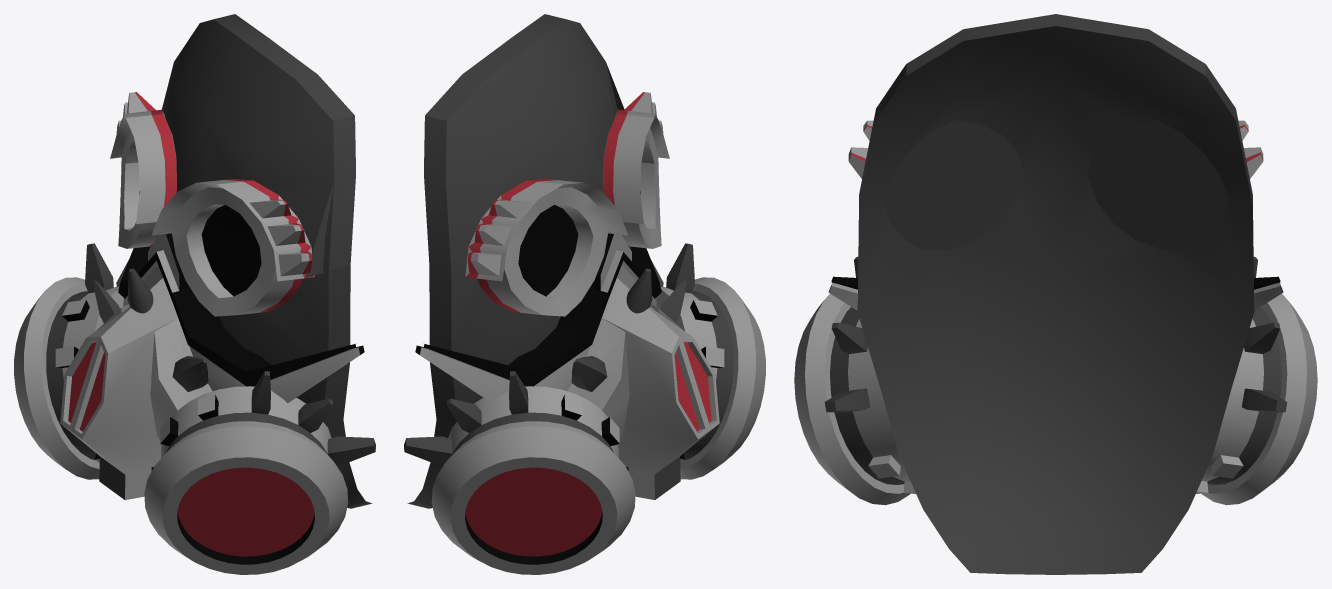
Rendered from T3_GasMask.fbx.
The picture shows the model from 3 angles, left to right: view 1: azimuth 30°, elevation 25°; view 2: azimuth 150°, elevation 25°; view 3: azimuth 270°, elevation 25°; orthographic projection. The views are drawn at different scales.
Parts seen in each view (by area): view 1: Mask; view 2: Mask; view 3: Mask.
Boxes of the visible parts, x1=… form: Mask: x1=14, y1=14, x2=375, y2=574; Mask: x1=404, y1=14, x2=765, y2=574; Mask: x1=794, y1=14, x2=1317, y2=574.
Bounding box in the file's own units: 0.5456 × 0.8362 × 0.9155.
